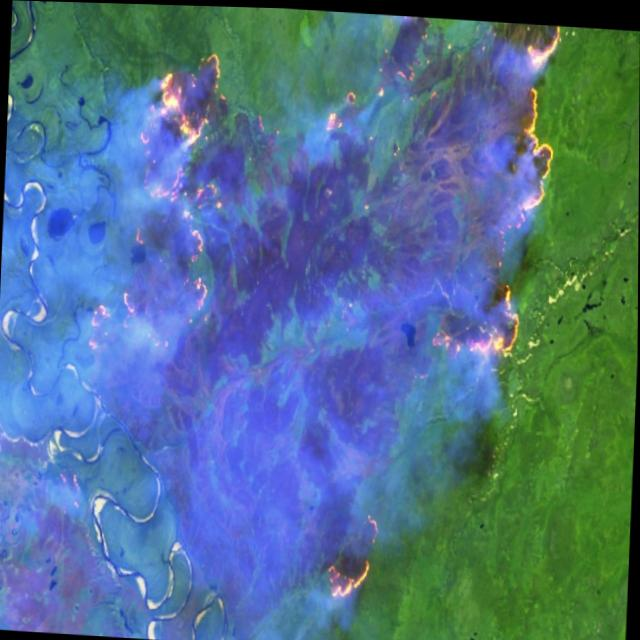fire: (70, 2, 565, 617)
